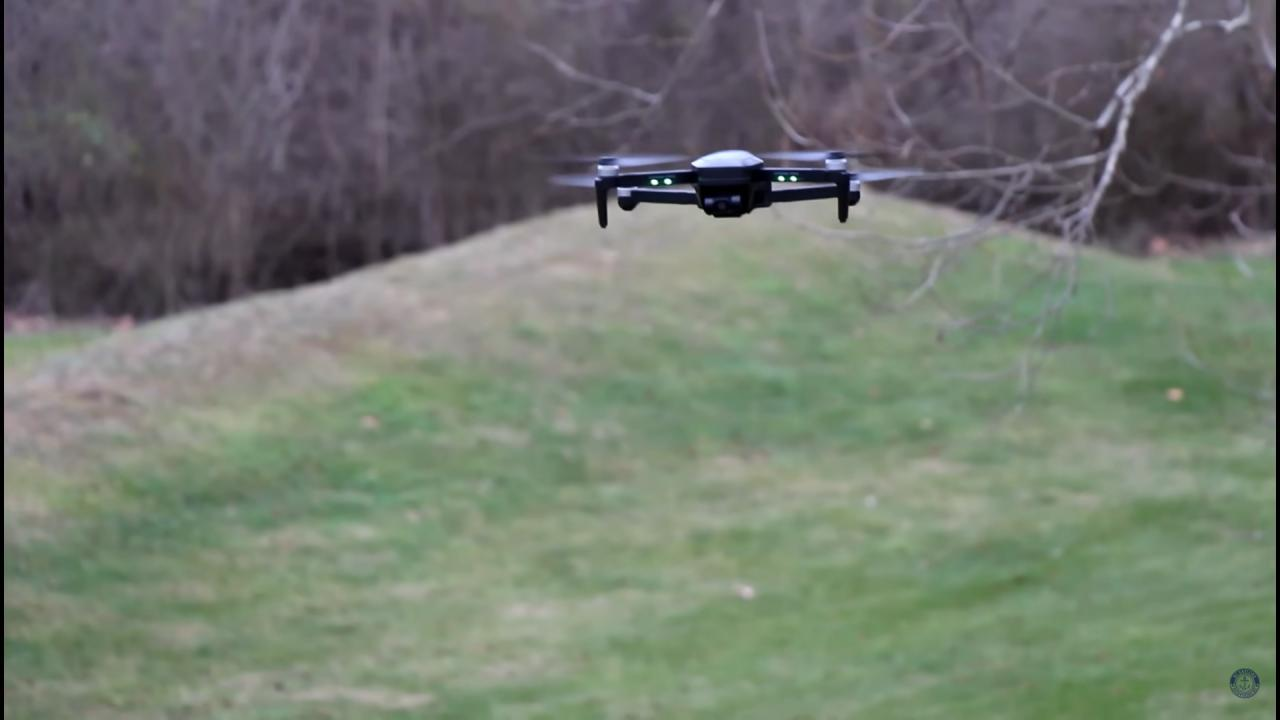Drone: (523, 123, 940, 242)
